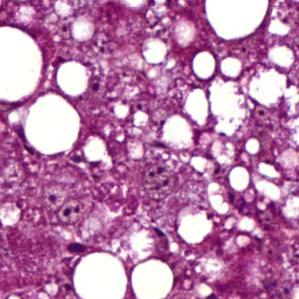steatosis: (27, 95, 82, 157), (52, 58, 91, 100), (190, 49, 218, 80)
